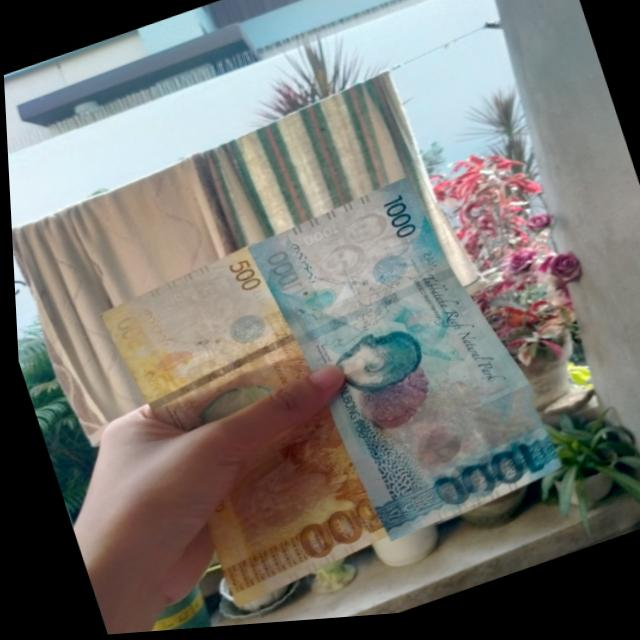security_thread: (290, 273, 453, 352), (143, 336, 291, 413)
see_through_mark: (283, 240, 319, 298), (136, 301, 171, 355)
value_watermark: (294, 223, 347, 254), (156, 288, 193, 310)
watermark: (303, 206, 412, 292), (144, 270, 248, 350)
